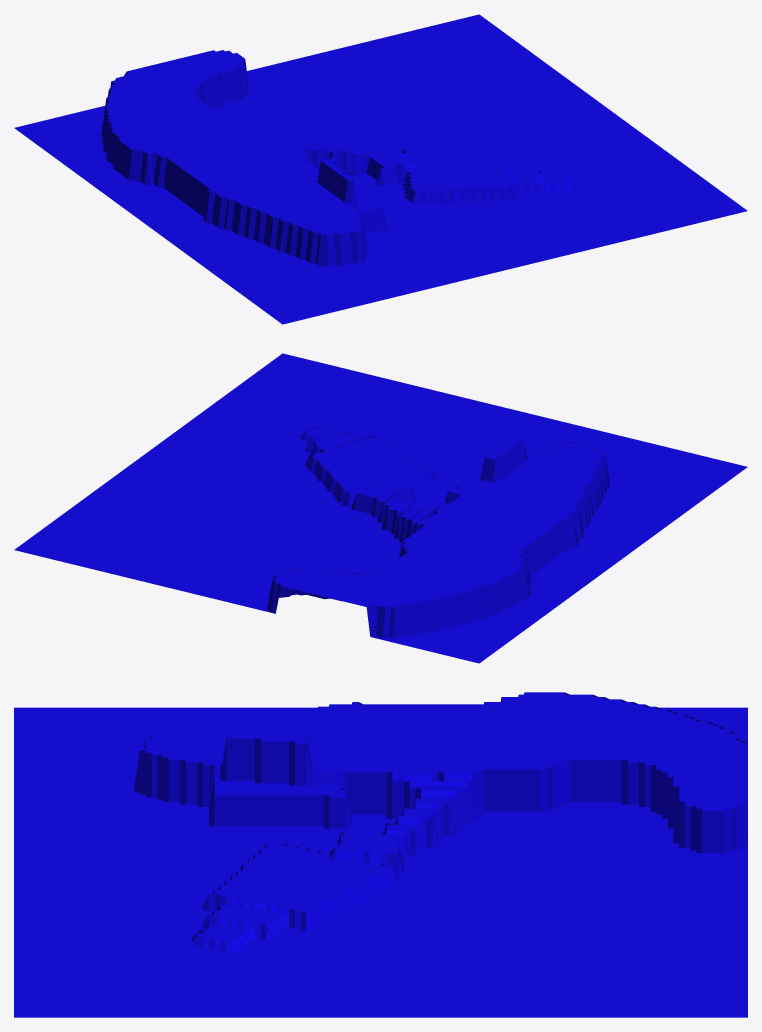
File: BiggerTerrainExample.glb
The picture shows the model from 3 angles, top to bottom: view 1: azimuth 30°, elevation 25°; view 2: azimuth 150°, elevation 25°; view 3: azimuth 270°, elevation 25°; orthographic projection. The views are drawn at different scales.
Parts seen in each view (by area): view 1: Plane.002; view 2: Plane.002; view 3: Plane.002.
Boxes of the visible parts, x1,y1,x2,y2 form: Plane.002: (14,14,747,324); Plane.002: (14,353,747,663); Plane.002: (14,692,747,1017).
Size of the model in its own units: 605 by 62 by 605.
